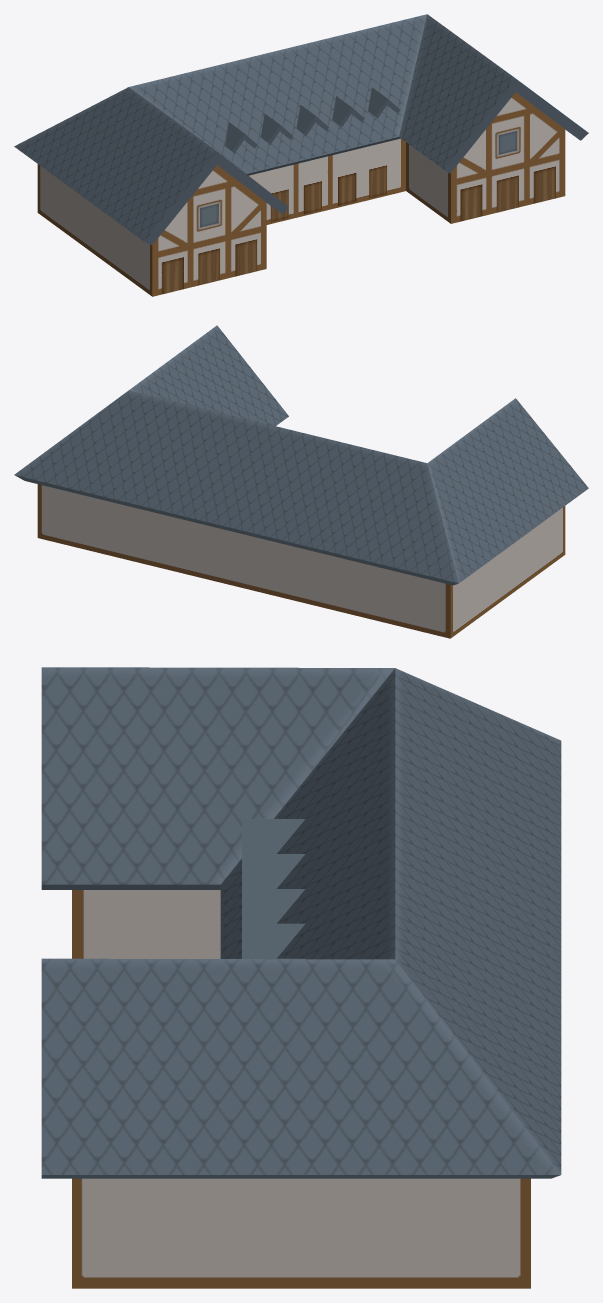
Rendered from Vinivola.fbx.
The picture shows the model from 3 angles, top to bottom: view 1: azimuth 30°, elevation 25°; view 2: azimuth 150°, elevation 25°; view 3: azimuth 270°, elevation 25°; orthographic projection. The views are drawn at different scales.
Visible parts, largest first — view 1: Vinicola; view 2: Vinicola; view 3: Vinicola.
Part boxes in pixels (bbox=[...]): Vinicola: bbox=[14, 14, 588, 296]; Vinicola: bbox=[14, 325, 588, 638]; Vinicola: bbox=[41, 667, 561, 1288].
Bounding box in the file's own units: 1460 × 430 × 739.
